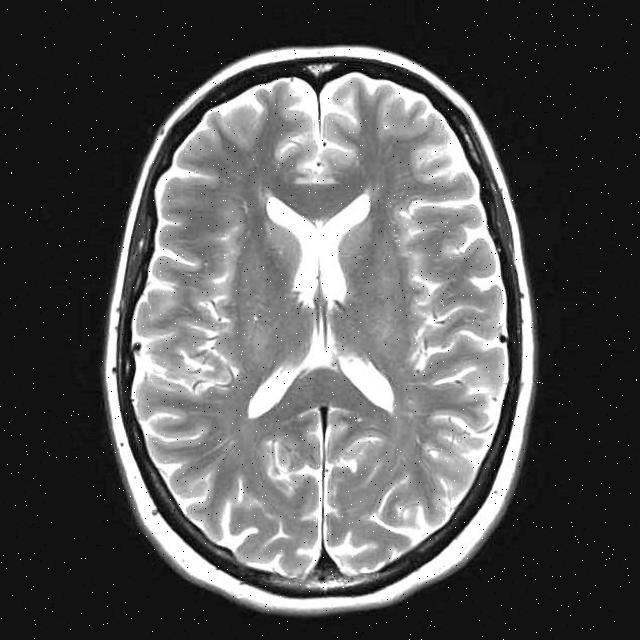No_Tumor: (105, 48, 534, 613)
